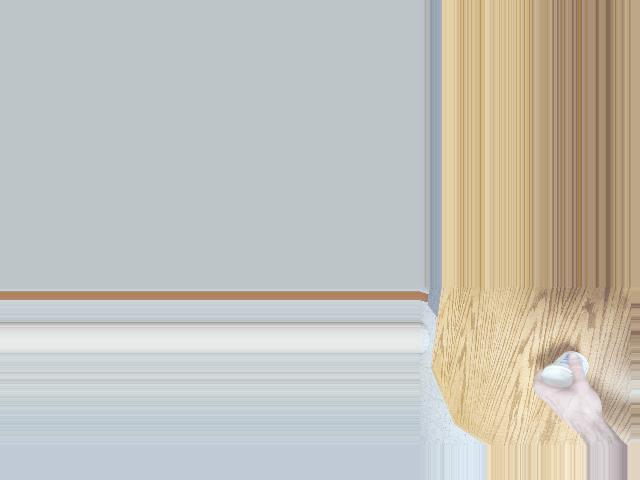cotage: (532, 350, 591, 385)
